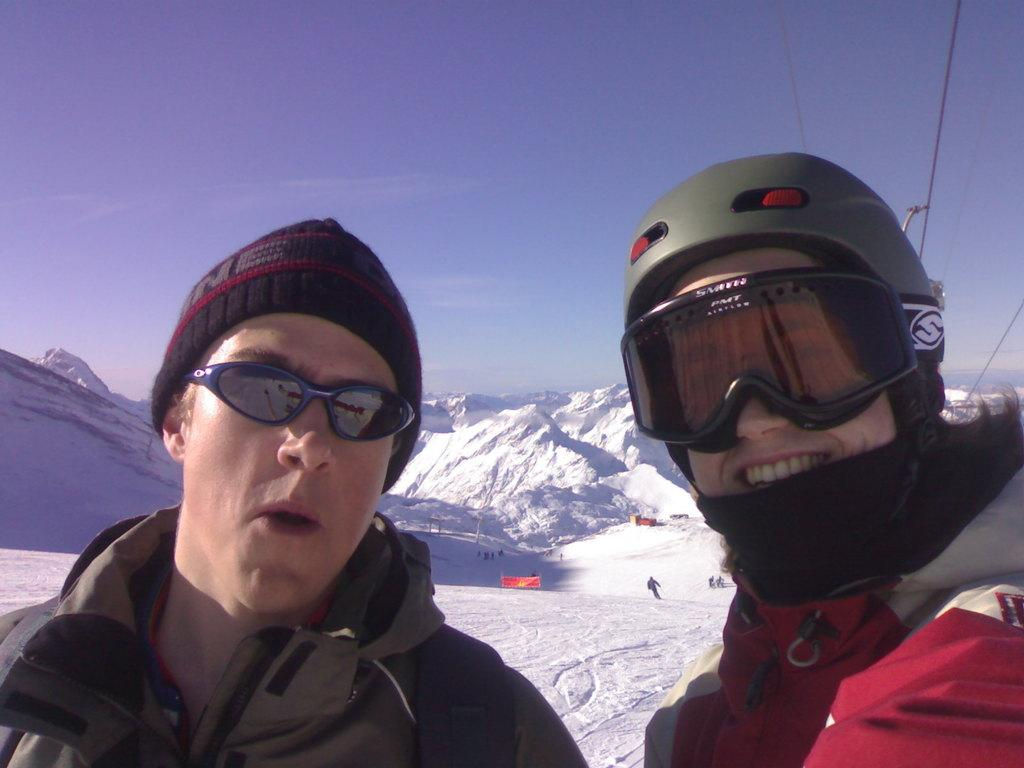helmet: (620, 151, 945, 556)
nohelmet: (151, 220, 423, 608)
